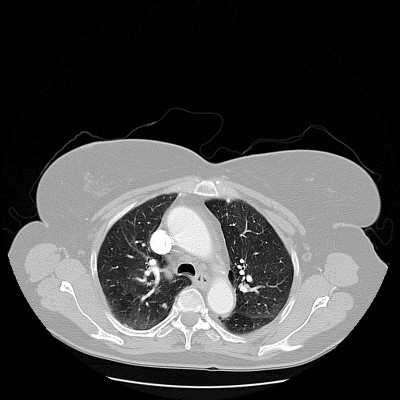nodule: (161, 303, 167, 309)
